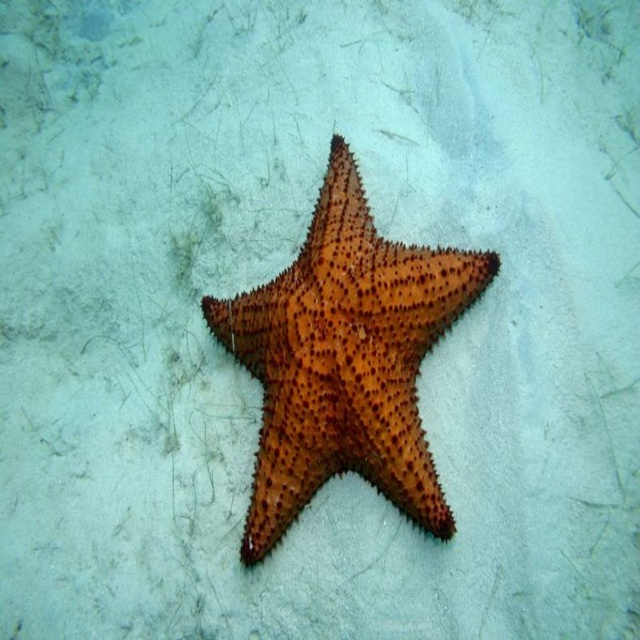Starfish: (200, 133, 502, 569)
